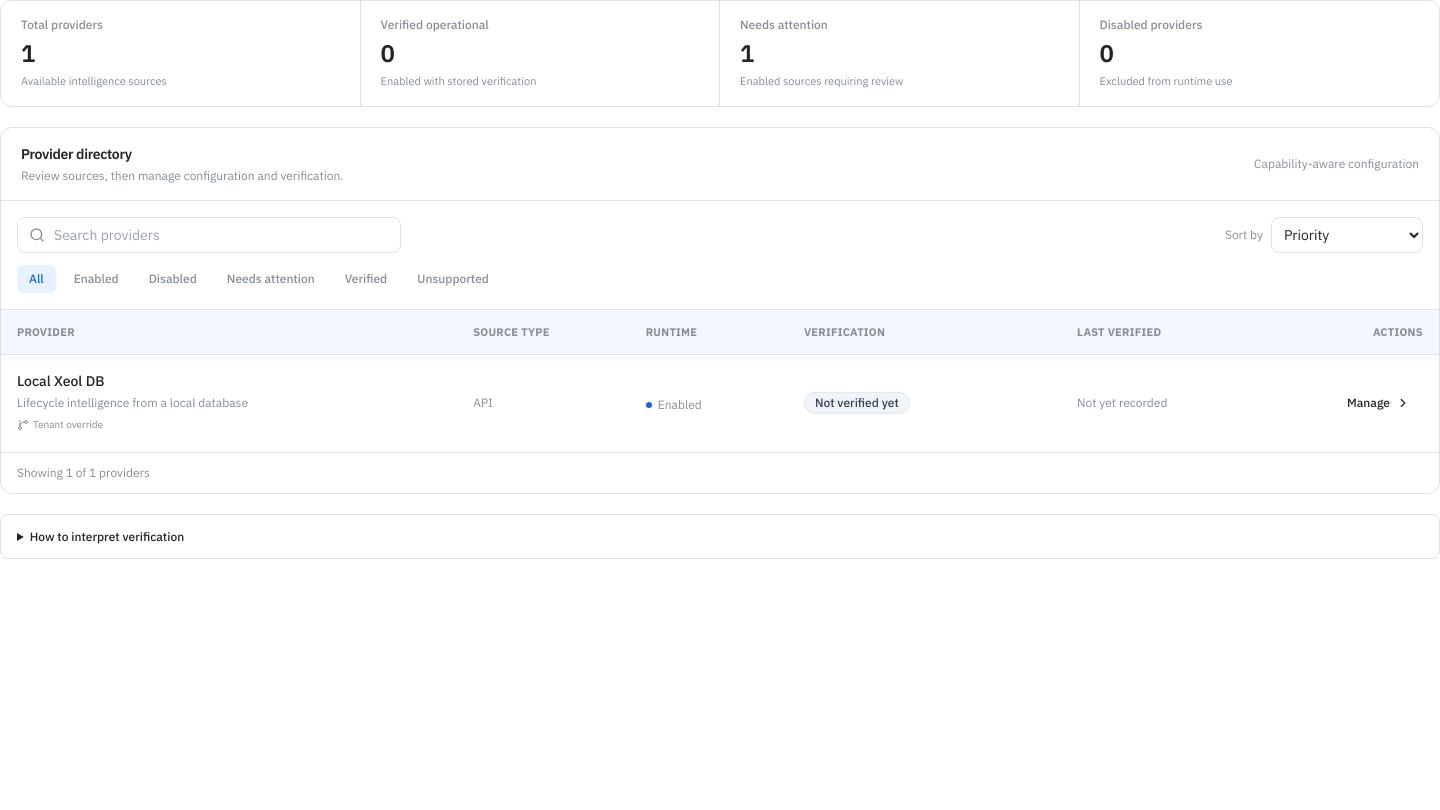
Scenario: LifecycleProviderSettings enterprise directory › shows reload only for supported sources and does not claim a queued job
Click the button "Manage". click: (1378, 403)
box: [1334,387,1423,419]
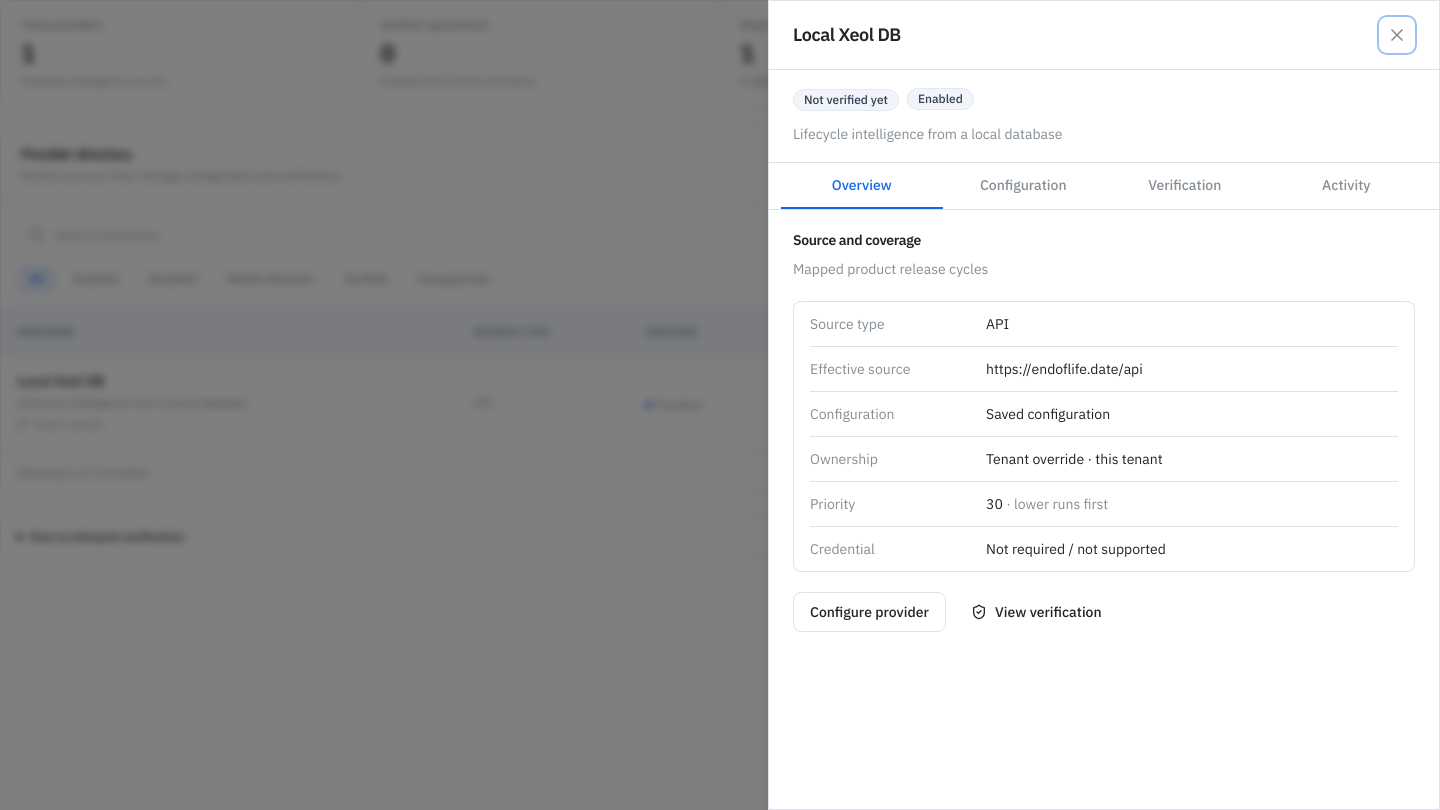
Click the button "Verification". click: (1185, 186)
box: [1104,163,1266,209]
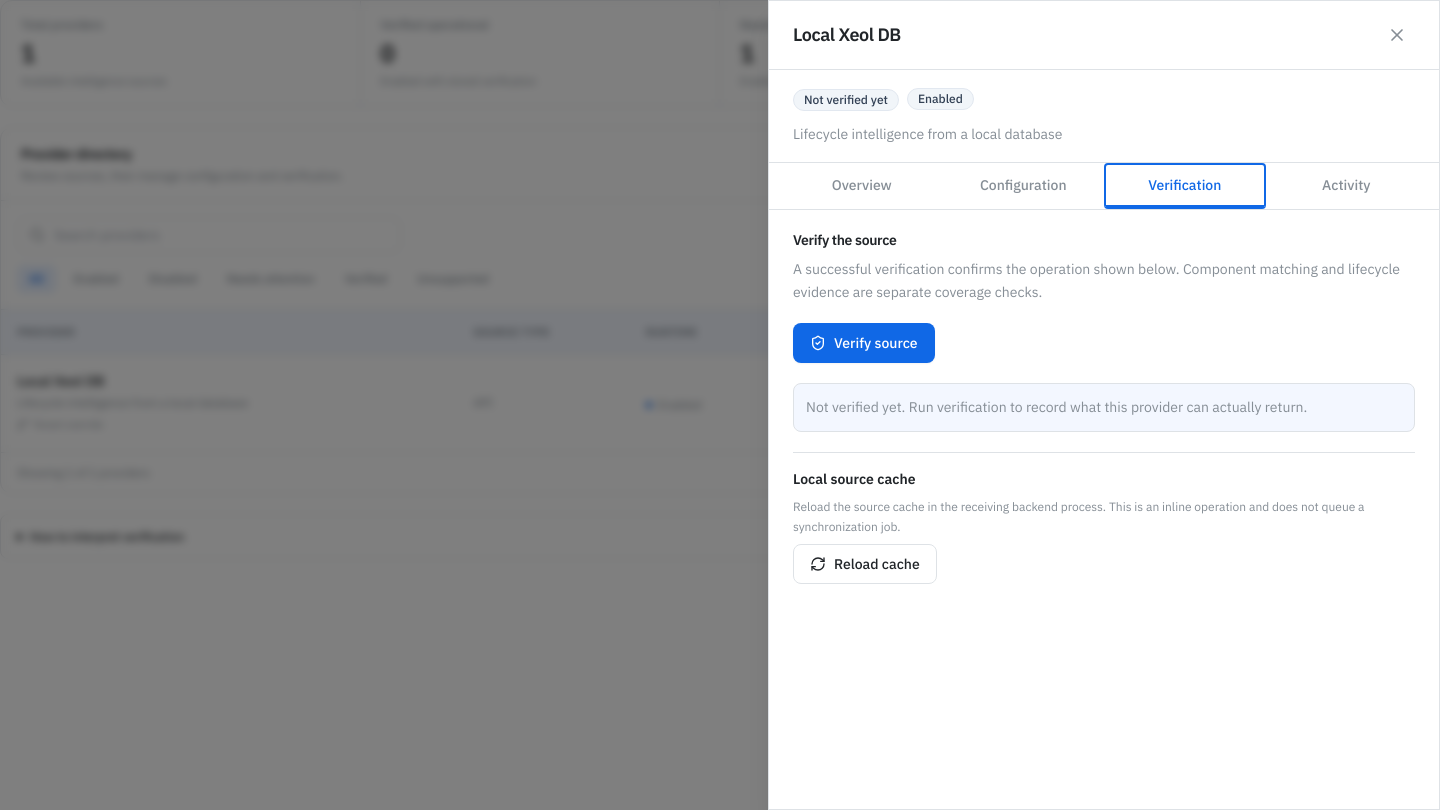
Click the button "Reload cache". click: (865, 564)
box: [793,544,937,584]
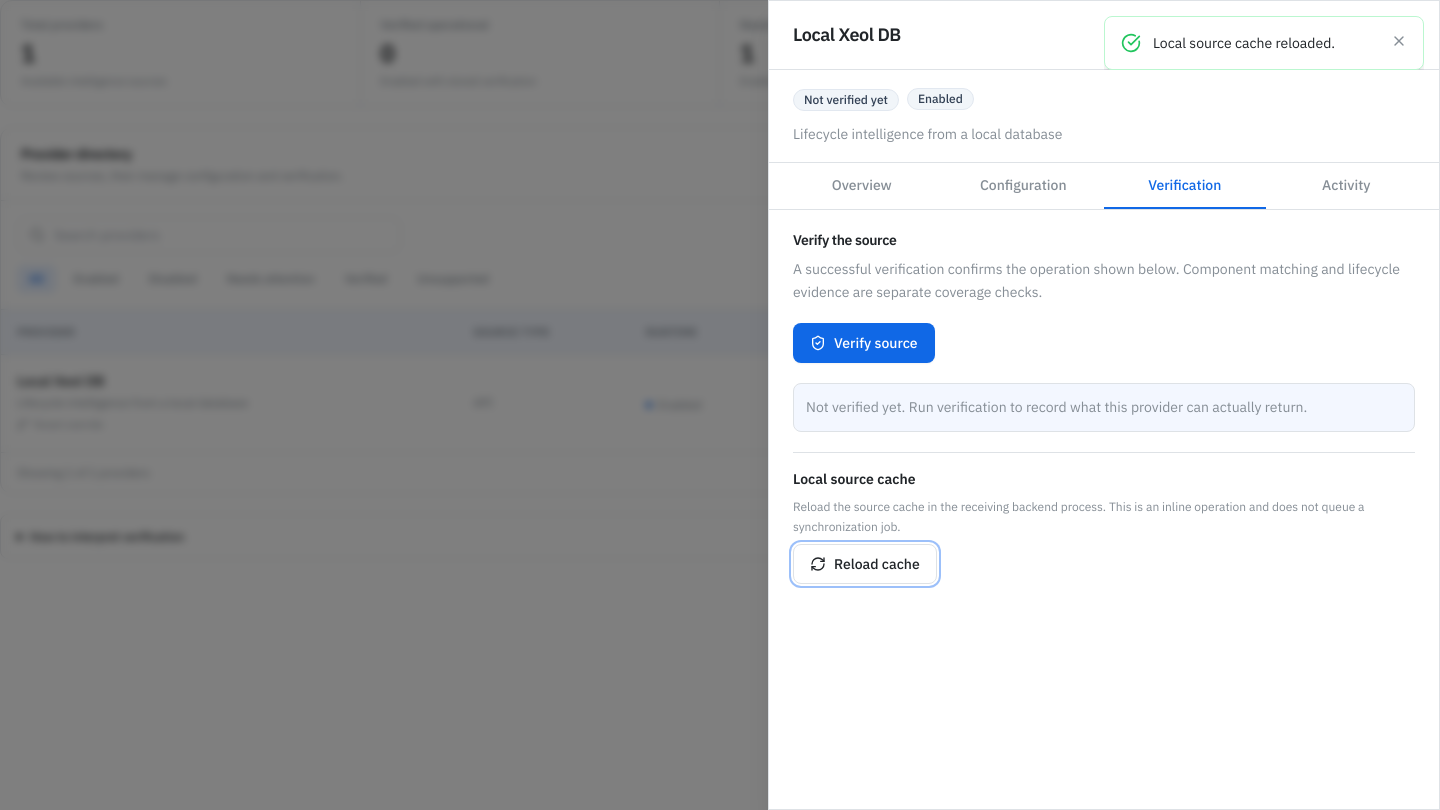
Now the text "Local source cache reloaded." is shown, box [1153,34,1335,52]
